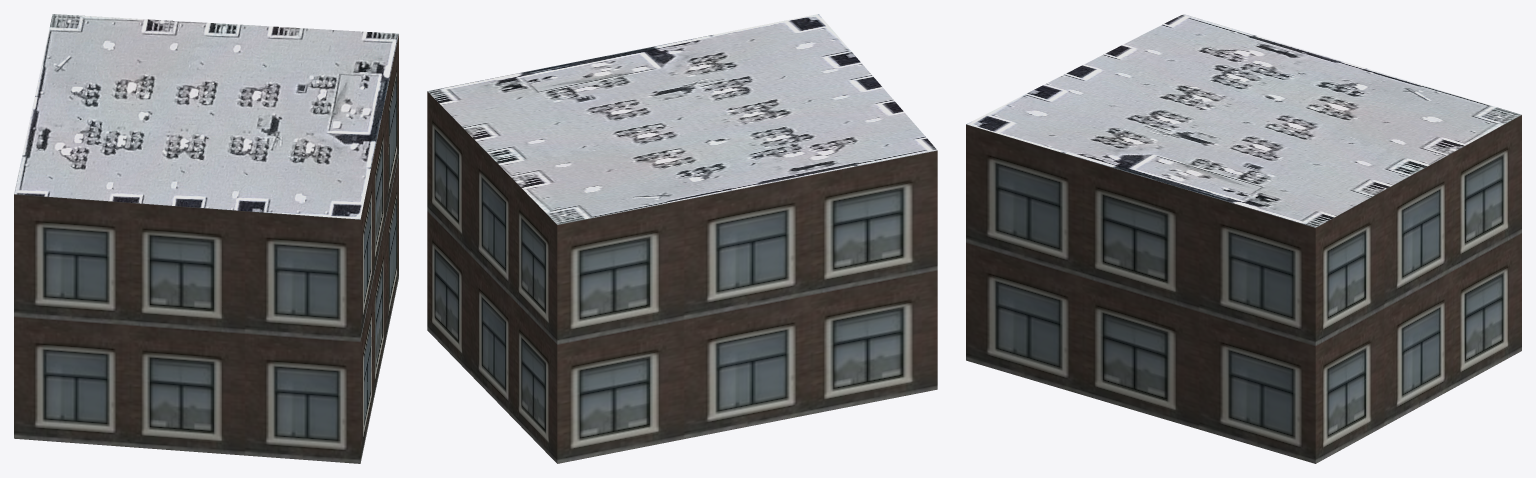
The model's file is ResTex__1108.fbx.
The picture shows the model from 3 angles, left to right: view 1: azimuth 30°, elevation 25°; view 2: azimuth 150°, elevation 25°; view 3: azimuth 270°, elevation 25°; orthographic projection. The views are drawn at different scales.
Visible parts, largest first — view 1: CityEngineMaterial_16_m, CityEngineMaterial_15_m; view 2: CityEngineMaterial_16_m, CityEngineMaterial_15_m; view 3: CityEngineMaterial_16_m, CityEngineMaterial_15_m.
Boxes of the visible parts, <box> form: CityEngineMaterial_16_m: <box>14,34,398,463</box>; CityEngineMaterial_15_m: <box>14,14,398,219</box>; CityEngineMaterial_16_m: <box>427,91,937,463</box>; CityEngineMaterial_15_m: <box>427,14,937,224</box>; CityEngineMaterial_16_m: <box>966,115,1521,463</box>; CityEngineMaterial_15_m: <box>966,14,1521,227</box>.
Bounding box in the file's own units: 11.64 × 6 × 12.8.
2 materials, 2 textured.
